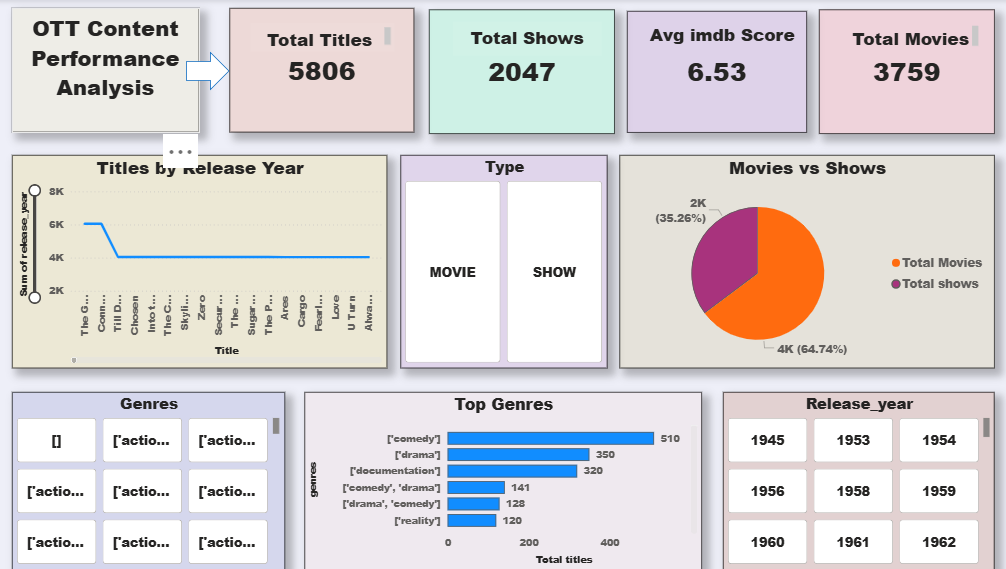

The dashboard page shown, as its layout file describes it:
{"tool":"powerbi","page":{"name":"Page 1","canvas":[1280,720],"ordinal":0},"visuals":[{"type":"card","fields":{"Values":["netflix.Total titles"]},"box":[296.7,11.3,232.4,156.9],"z":0},{"type":"card","fields":{"Values":["netflix.Total Movies"]},"box":[1039.4,13.2,221.1,156.9],"z":1000},{"type":"card","fields":{"Values":["netflix.Total shows"]},"box":[548,13.2,234.3,156.9],"z":2000},{"type":"card","fields":{"Values":["netflix.Average imdb score"]},"box":[797.5,15.1,226.8,153.1],"z":3000},{"type":"pieChart","title":"Movies vs Shows","fields":{"Y":["netflix.Total Movies","netflix.Total shows"]},"box":[788,196.5,472.4,268.3],"z":4000},{"type":"lineChart","title":"Titles by Release Year","fields":{"Category":["netflix.title"],"Y":["Sum(netflix.release_year)"]},"box":[22.7,196.5,472.4,268.3],"z":5000},{"type":"barChart","title":"Top Genres","fields":{"Category":["netflix.genres"],"Y":["netflix.Total titles"]},"box":[391.2,495.1,500.8,224.9],"z":6000},{"type":"textbox","box":[323.2,30.2,181.4,35.9],"z":7000},{"type":"textbox","box":[578.3,28.3,187.1,43.5],"z":8000},{"type":"textbox","box":[1071.5,28.3,173.9,37.8],"z":9000},{"type":"textbox","box":[22.7,11.3,236.2,156.9],"z":10000},{"type":"advancedSlicerVisual","title":"Type","fields":{"Values":["netflix.type"]},"box":[512.1,196.5,260.8,268.3],"z":11000},{"type":"advancedSlicerVisual","title":"Release_year","fields":{"Values":["netflix.release_year"]},"box":[918.4,495.1,342,224.9],"z":12000},{"type":"advancedSlicerVisual","title":"Genres","fields":{"Values":["netflix.genres"]},"box":[22.7,495.1,343.9,224.9],"z":13000},{"type":"textbox","box":[810.7,24.6,213.5,51],"z":14000},{"type":"shape","box":[241.9,66.1,54.8,49.1],"z":15000}]}

Visuals, with their boxes in screenshot pixels (x1, y1, x2, y2), scaled from the page's 1280x720 canvas onto the 1006x569 screenshot:
card - netflix.Total titles: 233:9:416:133
card - netflix.Total Movies: 817:10:991:134
card - netflix.Total shows: 431:10:615:134
card - netflix.Average imdb score: 627:12:805:133
"Movies vs Shows" pieChart: 619:155:991:367
"Titles by Release Year" lineChart: 18:155:389:367
"Top Genres" barChart: 307:391:701:568
textbox: 254:24:397:52
textbox: 455:22:602:57
textbox: 842:22:979:52
textbox: 18:9:203:133
"Type" advancedSlicerVisual: 402:155:607:367
"Release_year" advancedSlicerVisual: 722:391:991:568
"Genres" advancedSlicerVisual: 18:391:288:568
textbox: 637:19:805:60
shape: 190:52:233:91
